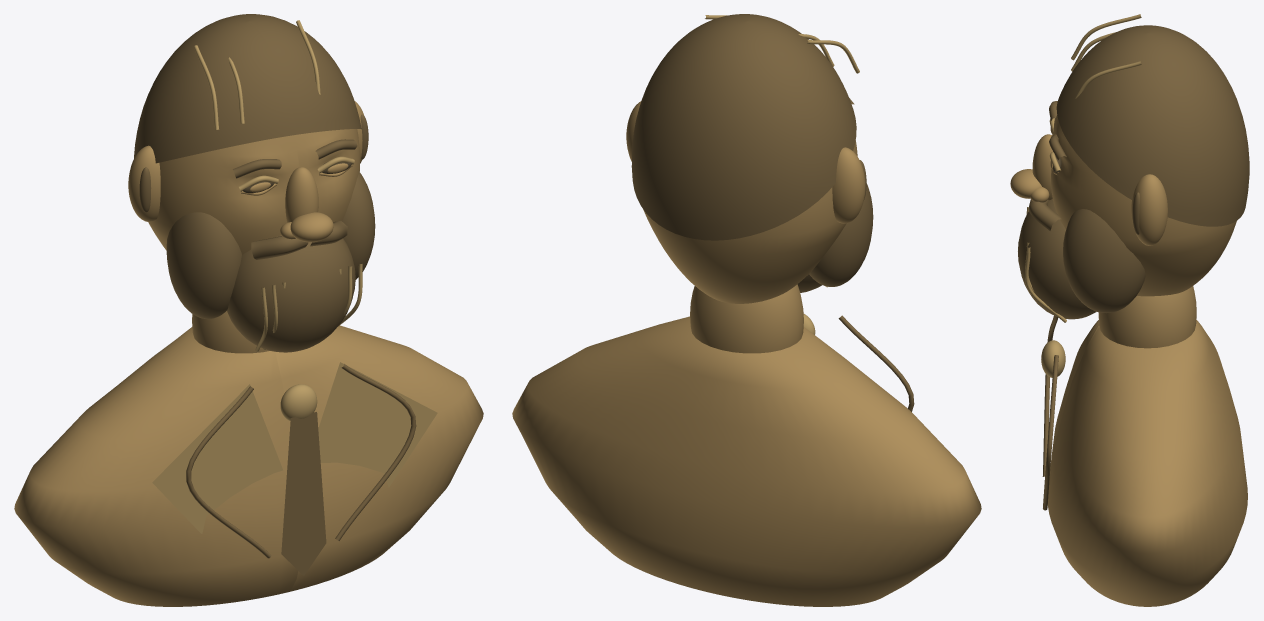
The model's file is prudente.glb.
3 views of the same model, side by side, from view 1: azimuth 30°, elevation 25°; view 2: azimuth 150°, elevation 25°; view 3: azimuth 270°, elevation 25° (orthographic). The views are drawn at different scales.
Parts seen in each view (by area): view 1: prudente; view 2: prudente; view 3: prudente.
Boxes of the visible parts, box(x1,y1,x2,y2) form: prudente: box(14, 14, 483, 606); prudente: box(512, 14, 981, 606); prudente: box(1010, 14, 1249, 606).
Size of the model in its own units: 1.22 by 1.37 by 0.5837.
